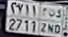1: (30, 4, 36, 34), (24, 3, 30, 32)
2: (8, 2, 16, 32)
7: (15, 2, 23, 32)
D: (54, 9, 62, 34)
N: (49, 8, 53, 35)
Z: (39, 6, 47, 35)
